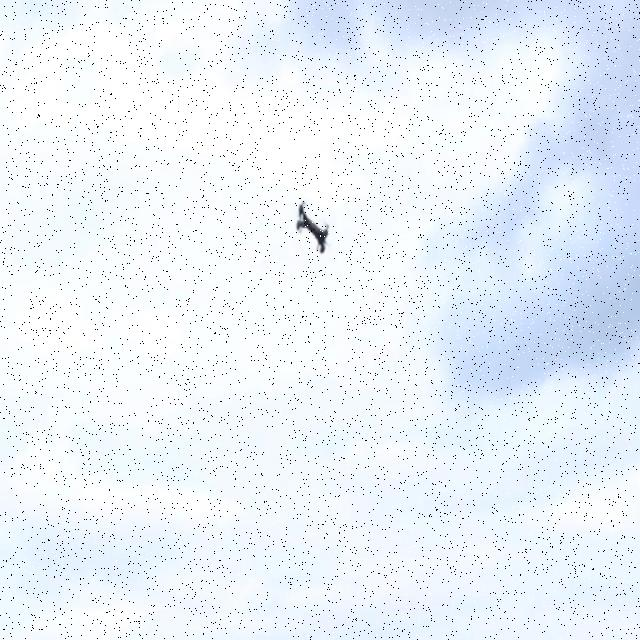UAV: (295, 200, 331, 257)
